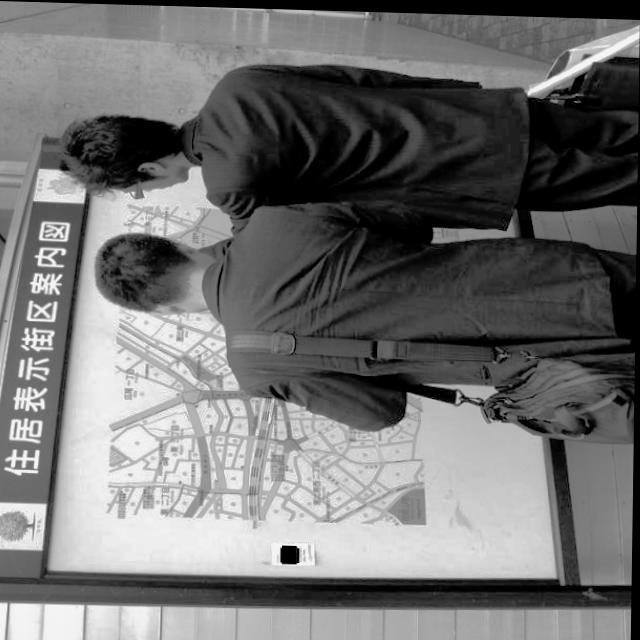qr_code: (284, 544, 300, 561)
